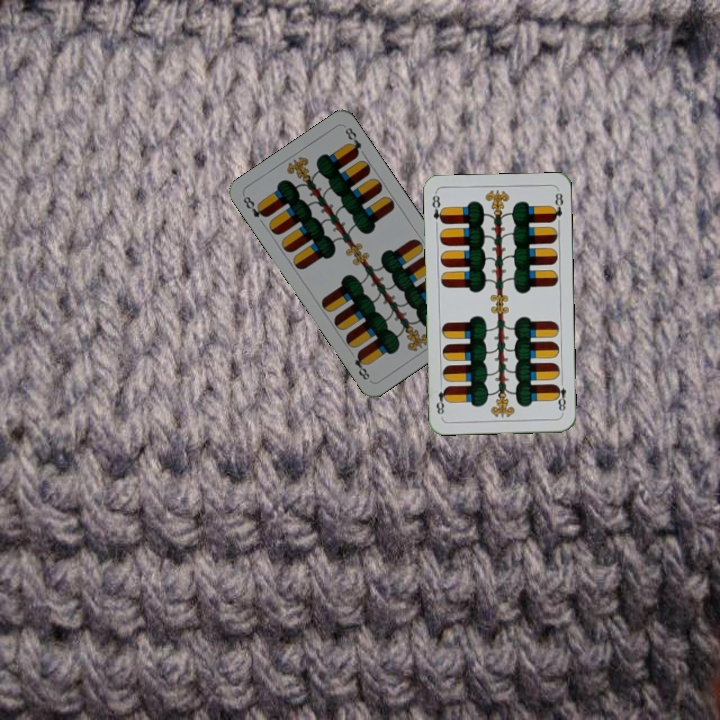E8: (239, 192, 270, 221), (551, 376, 569, 416), (428, 190, 447, 226)
